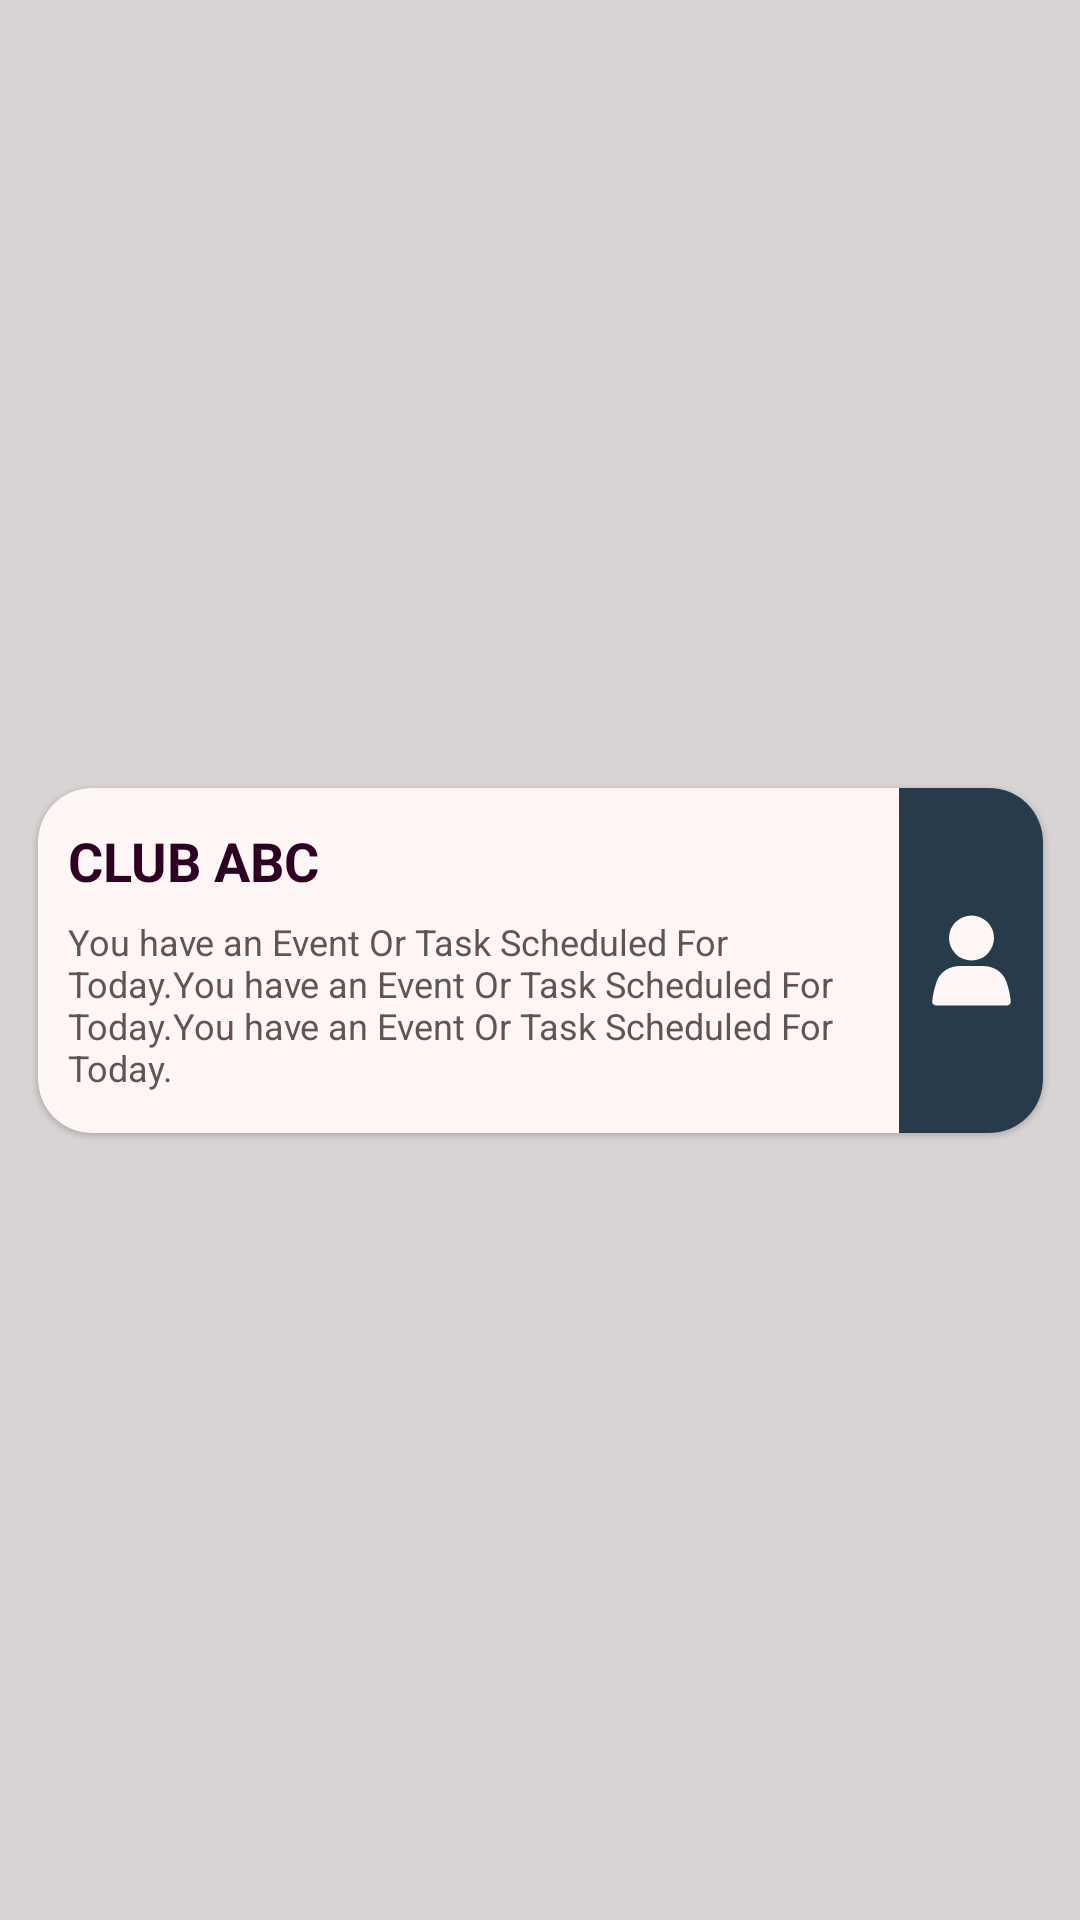

Screen size 1080px×1920px. Icon name, then its box in pixels as [x1=x1, y1=y1, x2=x2, y2=y2]:
acc: [x1=932, y1=915, x2=1011, y2=1006]
